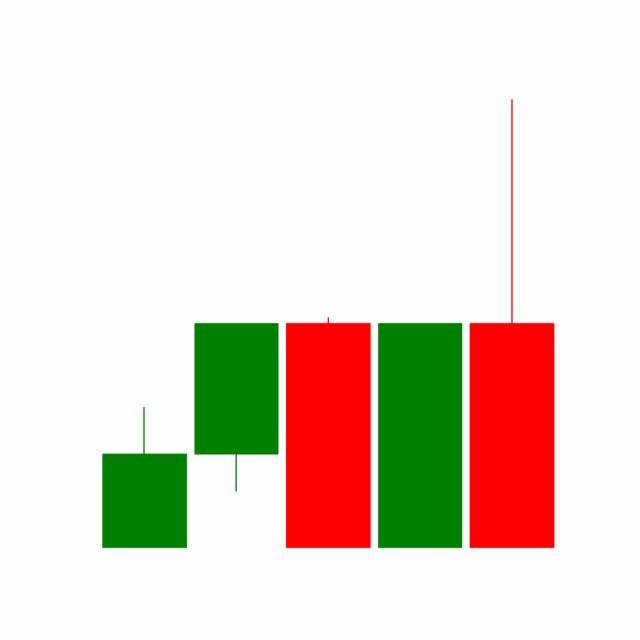Marubozu: (374, 321, 468, 551)
